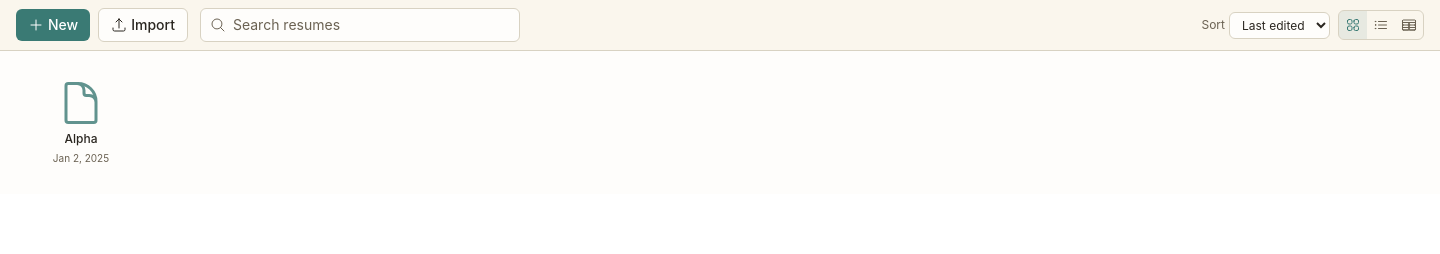
Test: <MyResumesApp> › single-click selects and shows the bulk-action footer
Expected: the text "Alpha" is shown, x1=64 y1=131 x2=98 y2=147
Click the button "Alpha Jan 2, 2025" at coordinates (81, 122), box x1=16 y1=67 x2=146 y2=178
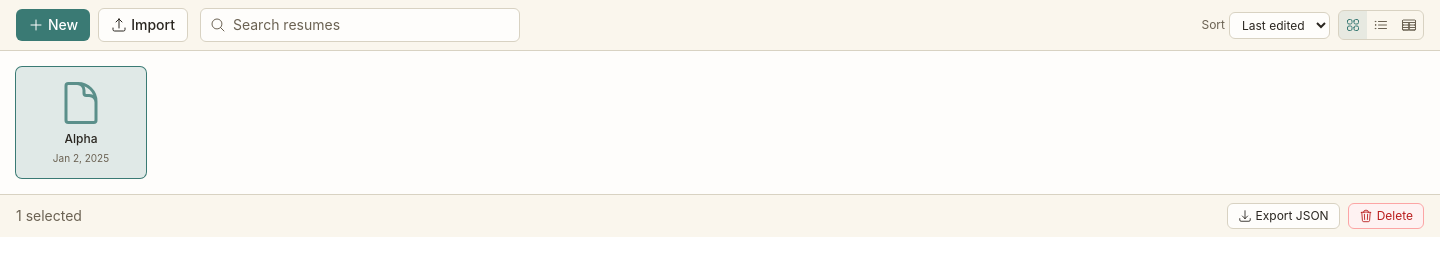
Result: the footer with test id "my-resumes-bulk-footer" is shown at x1=0 y1=194 x2=1439 y2=237
Result: the text "1 selected" is shown at x1=16 y1=206 x2=82 y2=226
